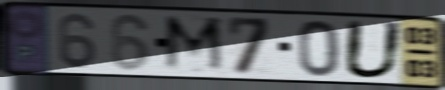0: (296, 18, 342, 79)
6: (108, 12, 155, 73), (55, 11, 99, 71)
7: (226, 15, 274, 77)
M: (162, 13, 228, 75)
U: (340, 18, 406, 81)
